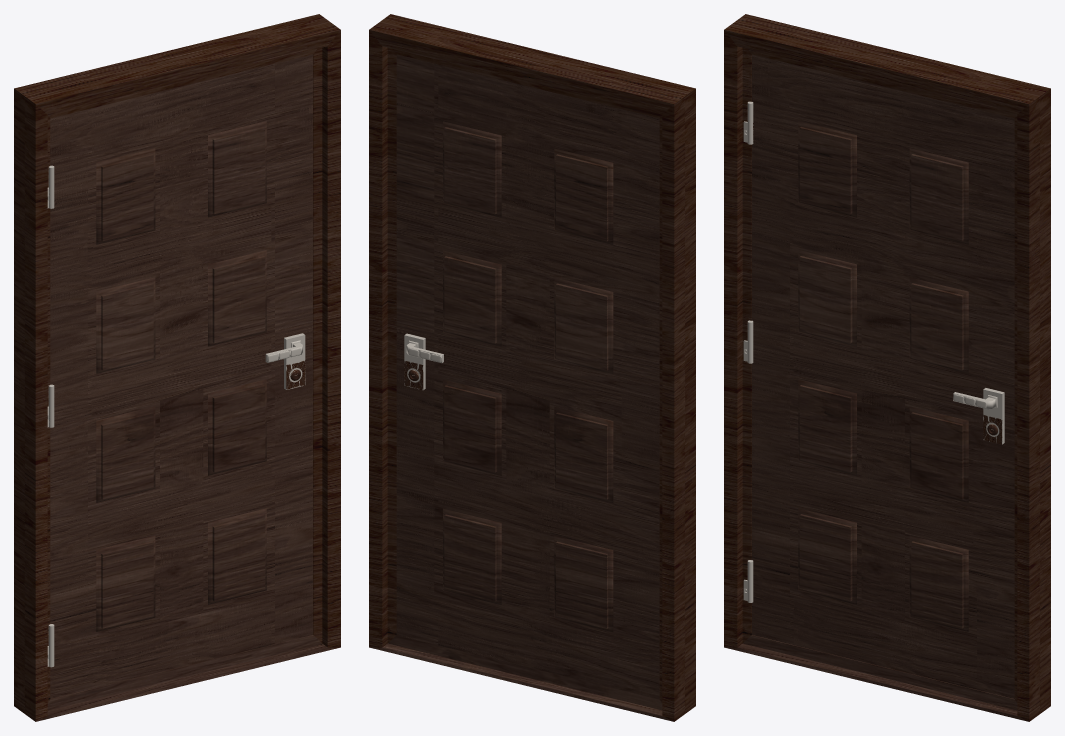
Rendered from DoorOpenable.fbx.
3 views of the same model, side by side, from view 1: azimuth 30°, elevation 25°; view 2: azimuth 150°, elevation 25°; view 3: azimuth 330°, elevation 25° (orthographic).
Parts seen in each view (by area): view 1: Door .001, Door mechanism, Door, Door .004, Door .005; view 2: Door .001, Door mechanism, Door .004, Door, Door .005; view 3: Door mechanism, Door .001, Door, Door .004, Door .005, Door .008.
Part boxes in pixels (x1,y1,x2,y2): Door .001: (50, 55, 312, 678); Door mechanism: (48, 54, 312, 698); Door: (14, 30, 340, 712); Door .004: (14, 14, 340, 721); Door .005: (284, 333, 305, 389); Door .001: (396, 54, 659, 677); Door mechanism: (396, 58, 659, 699); Door .004: (369, 14, 695, 721); Door: (369, 30, 695, 712); Door .005: (404, 333, 425, 390); Door mechanism: (747, 54, 1014, 698); Door .001: (752, 55, 1014, 688); Door: (724, 30, 1050, 710); Door .004: (724, 14, 1050, 721); Door .005: (983, 388, 1004, 444); Door .008: (743, 101, 753, 602).
Size of the model in its own units: 137 by 266 by 19.98.
